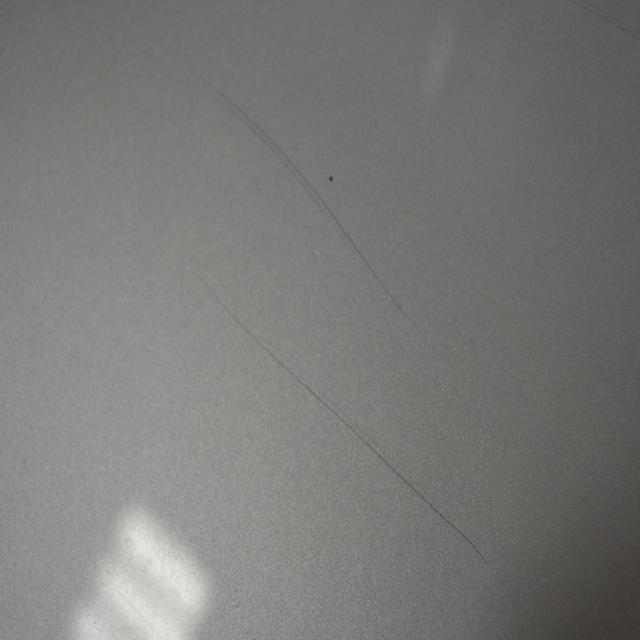dirt: (327, 170, 334, 184)
scratch: (194, 269, 497, 580), (187, 49, 426, 331)
